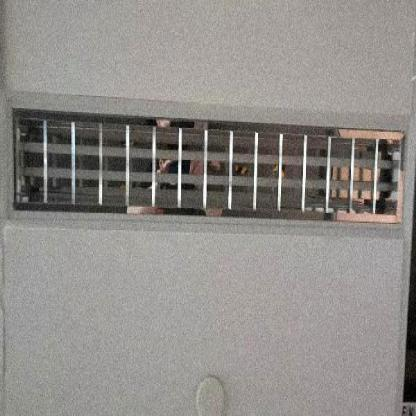light_off: (4, 87, 411, 234)
